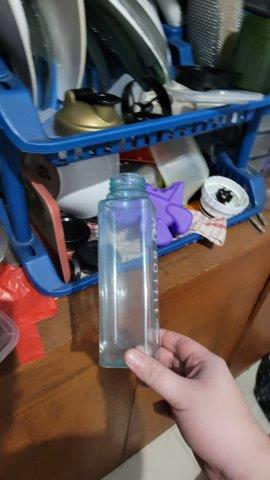botolplastik: (96, 172, 159, 370)
